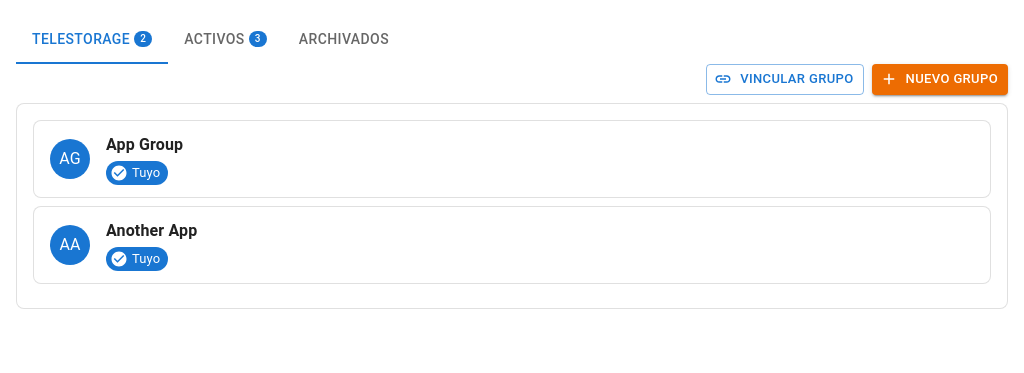
Test: GroupListPage app filter › should show all groups when tab is changed to Activos
Check: the text "App Group" is shown, box [106, 135, 183, 154]
Click the tab "Activos 3". click: click(226, 40)
box: [168, 16, 283, 64]
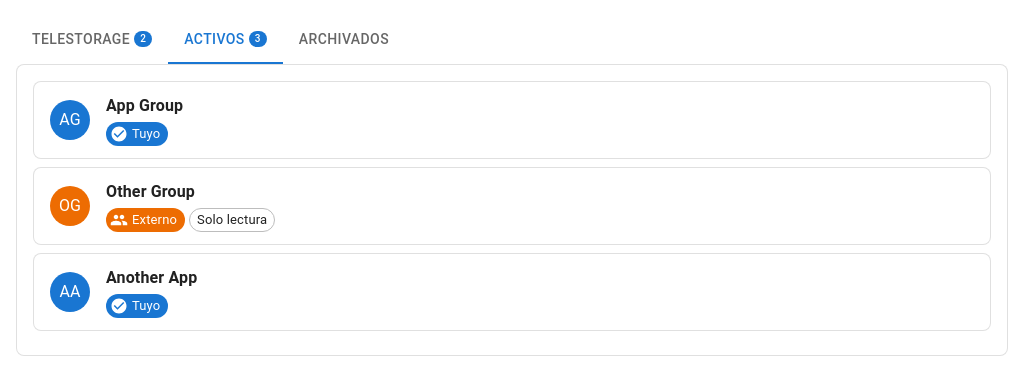
Check: the text "App Group" is shown, box [106, 96, 183, 115]
Check: the text "Other Group" is shown, box [106, 182, 195, 201]
